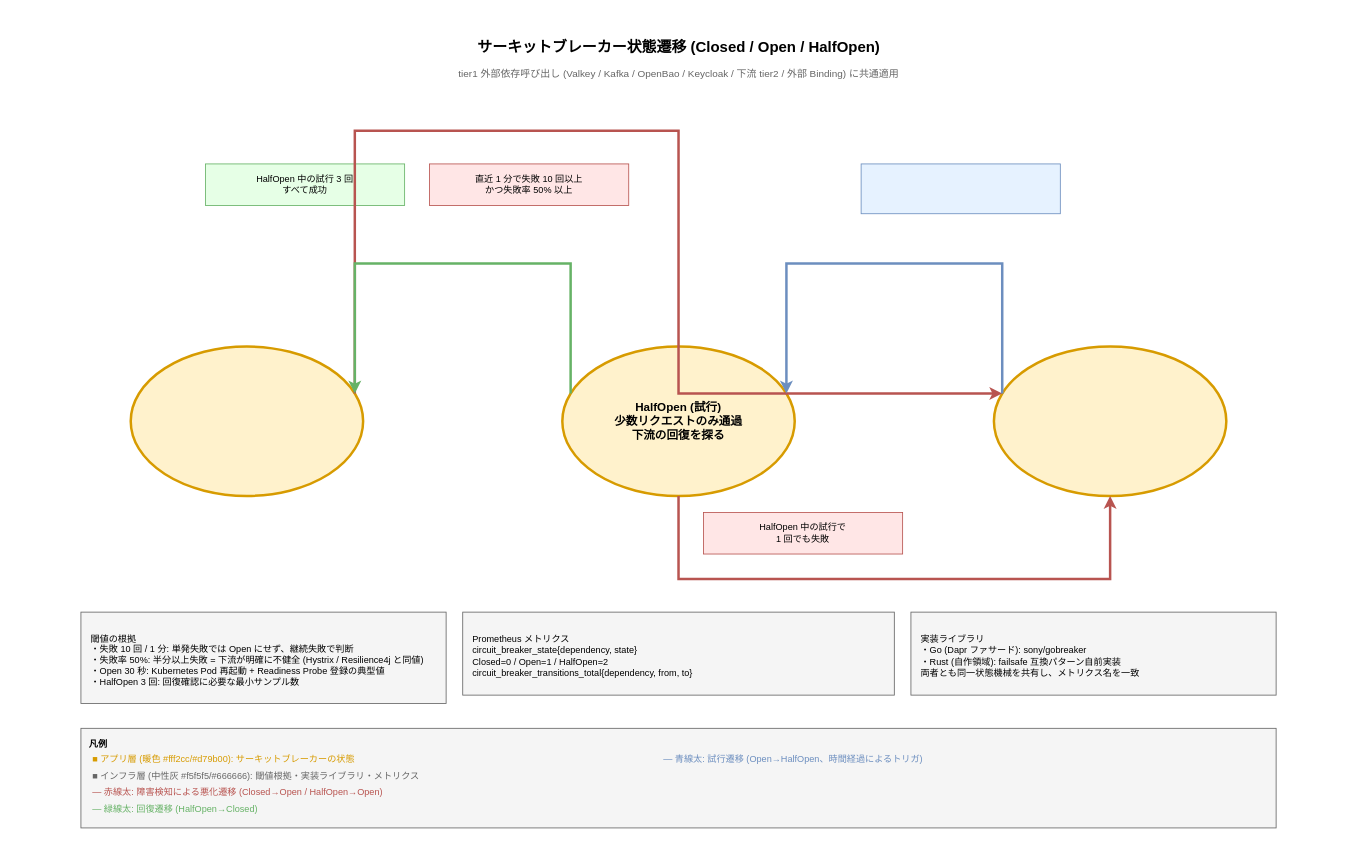
This 1356x858 diagram has some shape labels left out. Here are the shapes that lost their labels. From the top down, the centre of each, then its label:
At point 960,188: "Open 遷移から 30 秒経過 (Kubernetes Pod 再起動 + Readiness 典型値)".
At point 246,421: "Closed (通常) 全リクエスト通過 失敗をカウンタに記録".
At point 1109,421: "Open (遮断) 全リクエスト即時失敗 (503 / Unavailable) 下流への負荷停止".
